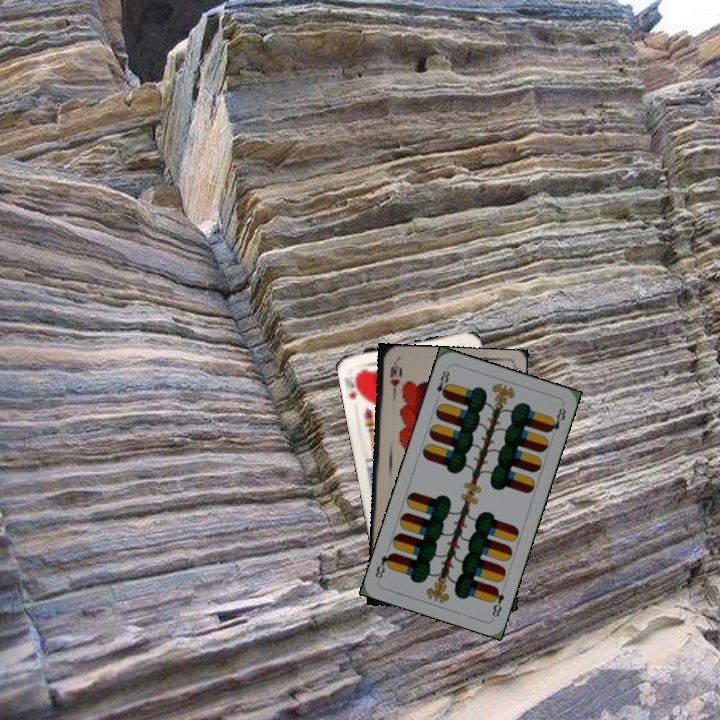E8: (431, 366, 452, 404), (487, 583, 507, 620)
H10: (386, 360, 401, 400)
HK: (345, 369, 364, 402)
